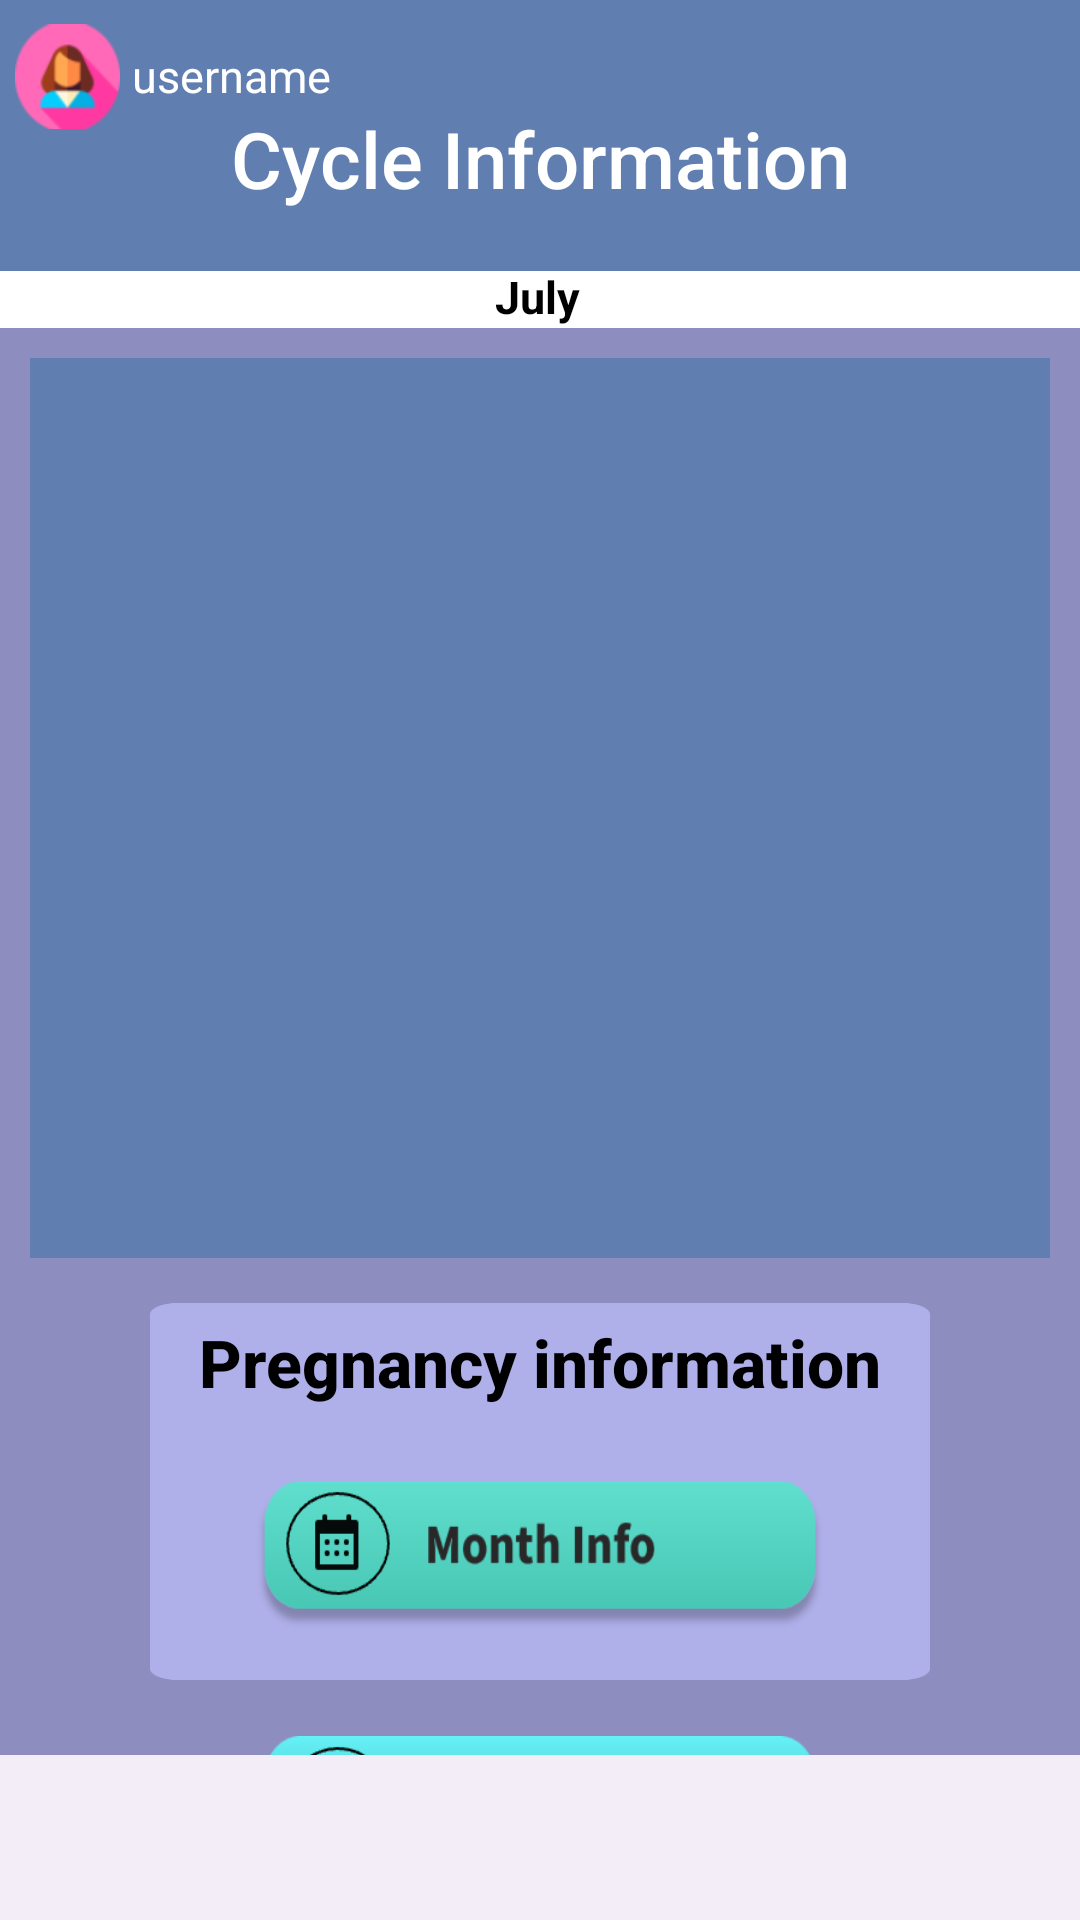

Point at icon controls on the screen. Image size 1080 x 1920, points as (x=x, y=y).
femaleicon: (x=67, y=76)
